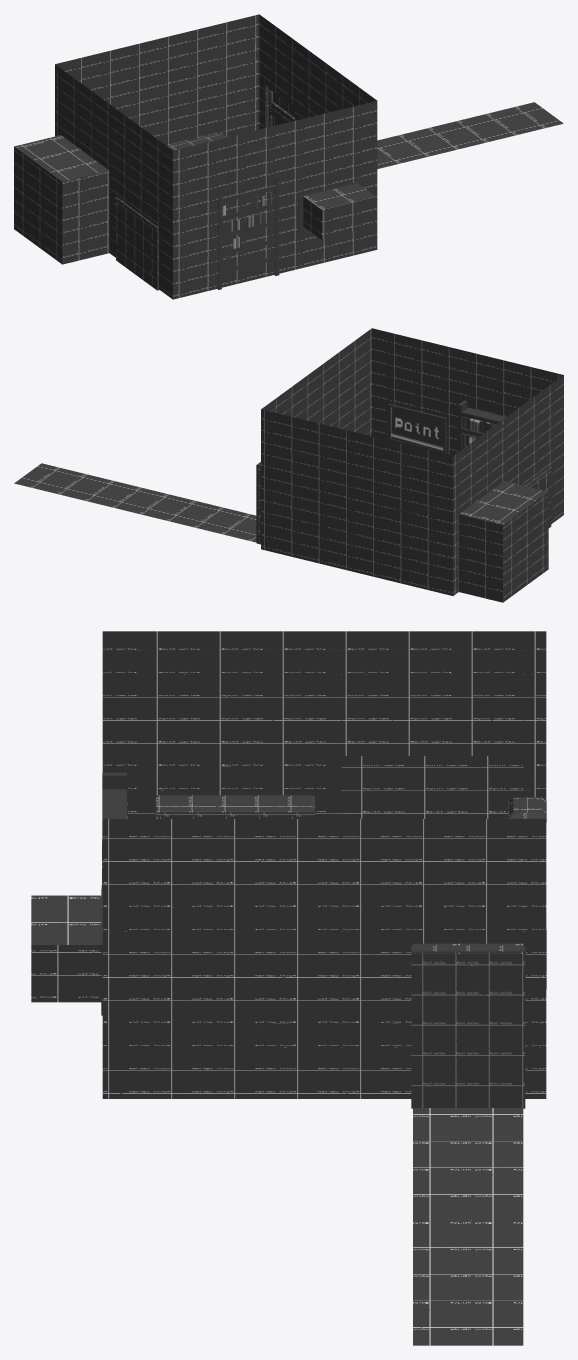
Rendered from blockout iteration1.fbx.
3 views of the same model, one above another, from view 1: azimuth 30°, elevation 25°; view 2: azimuth 150°, elevation 25°; view 3: azimuth 270°, elevation 25° (orthographic). The views are drawn at different scales.
Parts seen in each view (by area): view 1: room, piano, bookshelf, EXIT, drawer, painting; view 2: room, painting, bookshelf, piano, EXIT; view 3: room, EXIT, piano, bookshelf.
Part boxes in pixels (x1,y1,x2,y2): room: (14, 14, 563, 299); piano: (114, 197, 159, 290); bookshelf: (217, 177, 279, 289); EXIT: (269, 88, 294, 126); drawer: (167, 132, 226, 150); painting: (298, 181, 358, 234); room: (14, 328, 563, 602); painting: (388, 404, 446, 453); bookshelf: (458, 400, 505, 452); piano: (525, 467, 552, 527); EXIT: (256, 462, 260, 544); room: (31, 631, 546, 1345); EXIT: (411, 945, 525, 1108); piano: (155, 795, 314, 818); bookshelf: (102, 772, 126, 888).
Bounding box in the file's own units: 6198 × 1712 × 2830.
16 materials, 9 textured.
